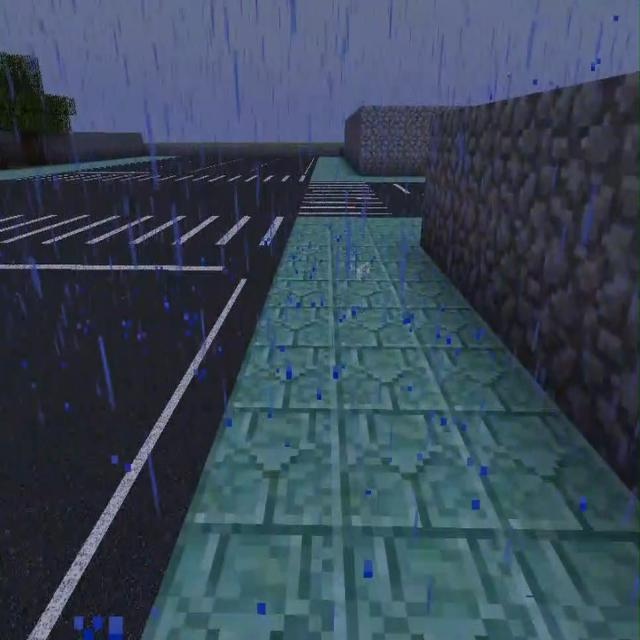8: (0, 211, 293, 245), (11, 173, 309, 186), (301, 184, 394, 213)
crosswalk: (0, 249, 278, 639), (0, 184, 304, 214), (90, 156, 318, 171), (377, 184, 426, 213)
road: (139, 219, 639, 639), (0, 155, 170, 180), (310, 156, 430, 184)
